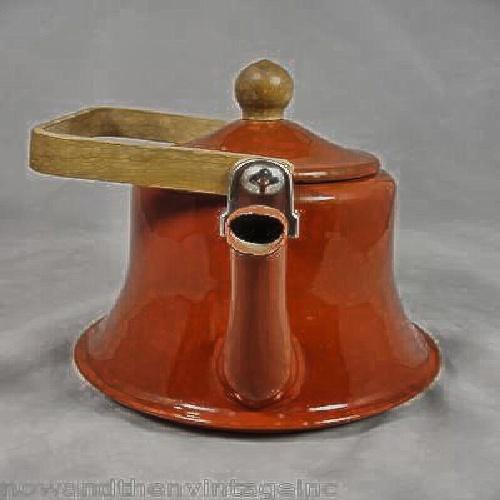kettle: (64, 77, 431, 449)
